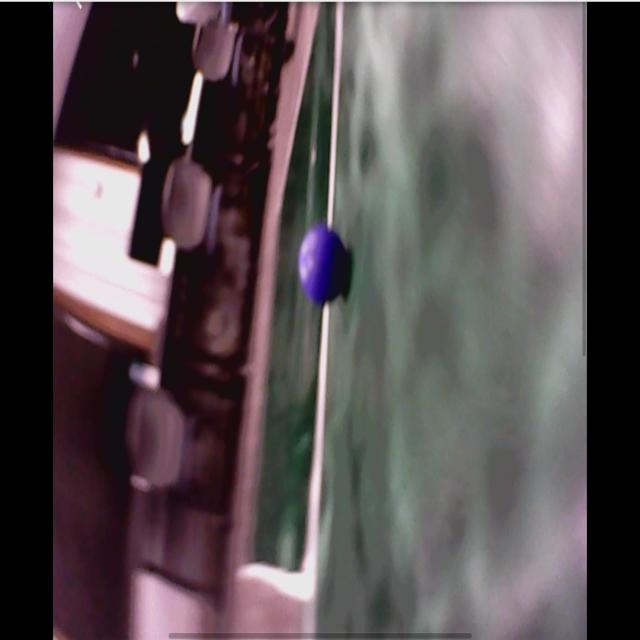ball: (299, 232, 347, 305)
